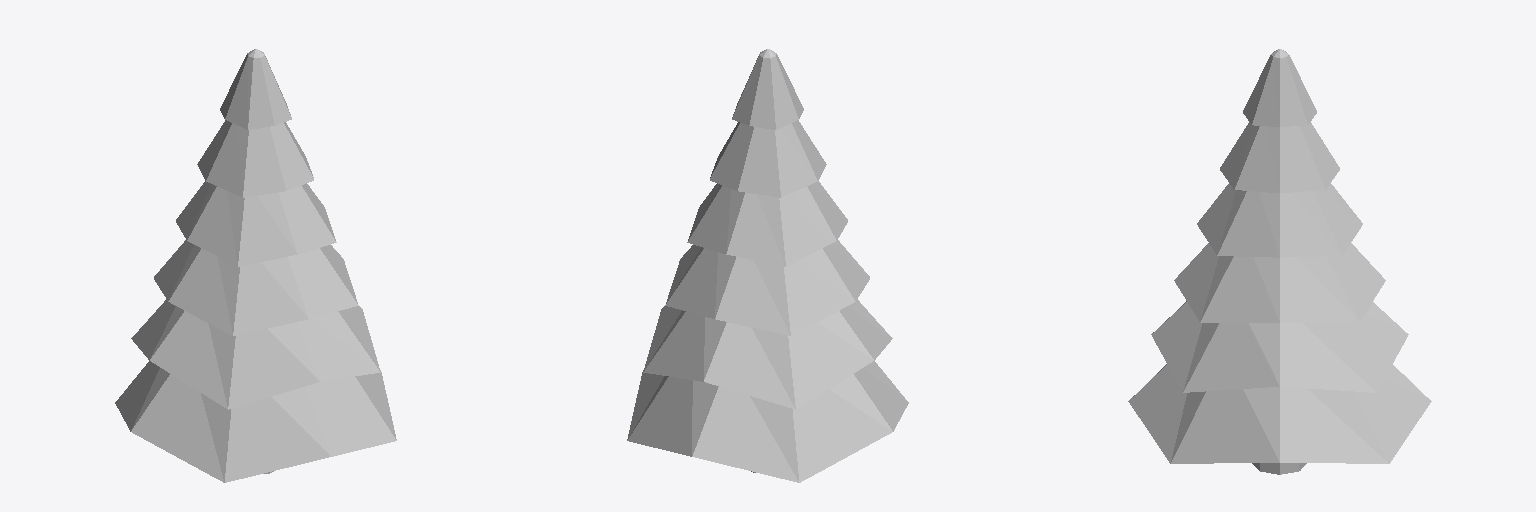
Rendered from SmallTree.obj.
The picture shows the model from 3 angles: view 1: azimuth 30°, elevation 25°; view 2: azimuth 150°, elevation 25°; view 3: azimuth 270°, elevation 25°; orthographic projection.
Parts seen in each view (by area): view 1: Norm_PineTree.003_Cylinder.002; view 2: Norm_PineTree.003_Cylinder.002; view 3: Norm_PineTree.003_Cylinder.002.
Part boxes in pixels (x1,y1,x2,y2): Norm_PineTree.003_Cylinder.002: (115,49,396,482); Norm_PineTree.003_Cylinder.002: (627,49,908,482); Norm_PineTree.003_Cylinder.002: (1128,49,1431,474).
Size of the model in its own units: 8.9 by 14.05 by 9.33.